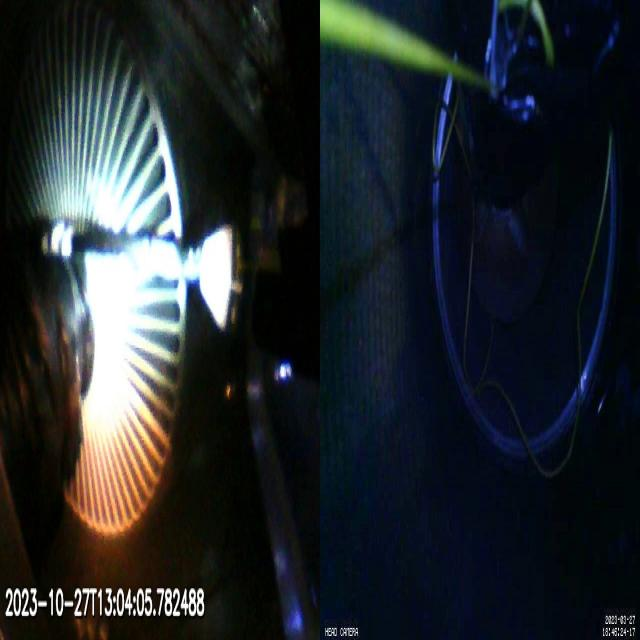head: (201, 229, 288, 327)
white-dots: (41, 222, 77, 260)
